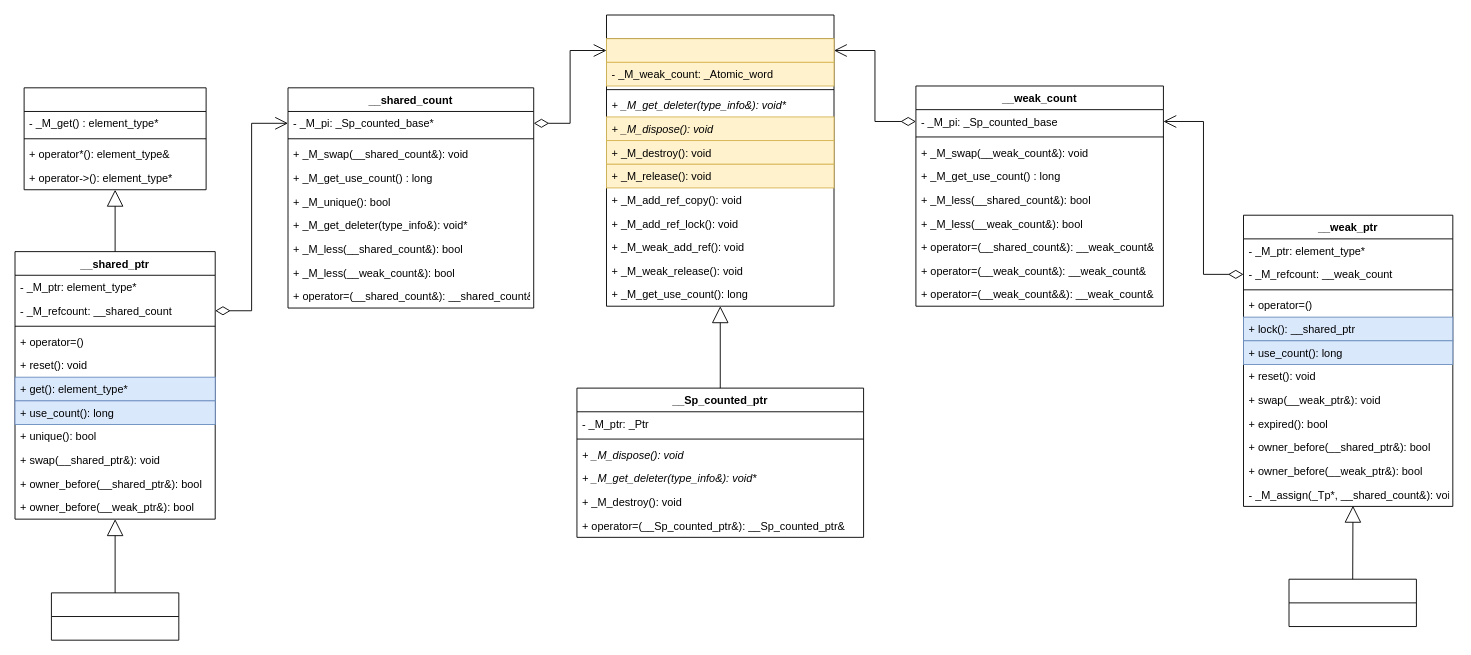
Image size: 1471x655. Some labels were removed from this diagram. Each missing label, with the box of its shape:
- _M_use_count: _Atomic_word: (606, 38, 834, 62)
__shared_ptr_access: (23, 87, 206, 190)
__Sp_counted_base: (606, 14, 834, 306)
shared_ptr: (51, 592, 179, 640)
weak_ptr: (1288, 578, 1416, 627)
